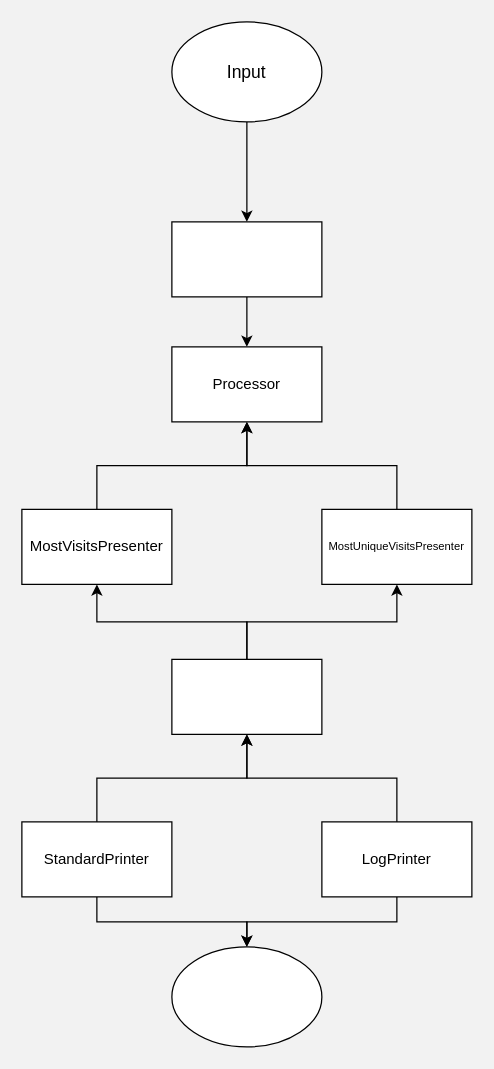
The diagram is 494 pixels wide and 1069 high, and some of its shapes have lost their labels. Here are the shapes that lost their labels. From the top down, the centre of each, then its label:
At point (246, 259): "LogReader".
At point (246, 696): "PrinterFactory".
At point (246, 996): "Output".
